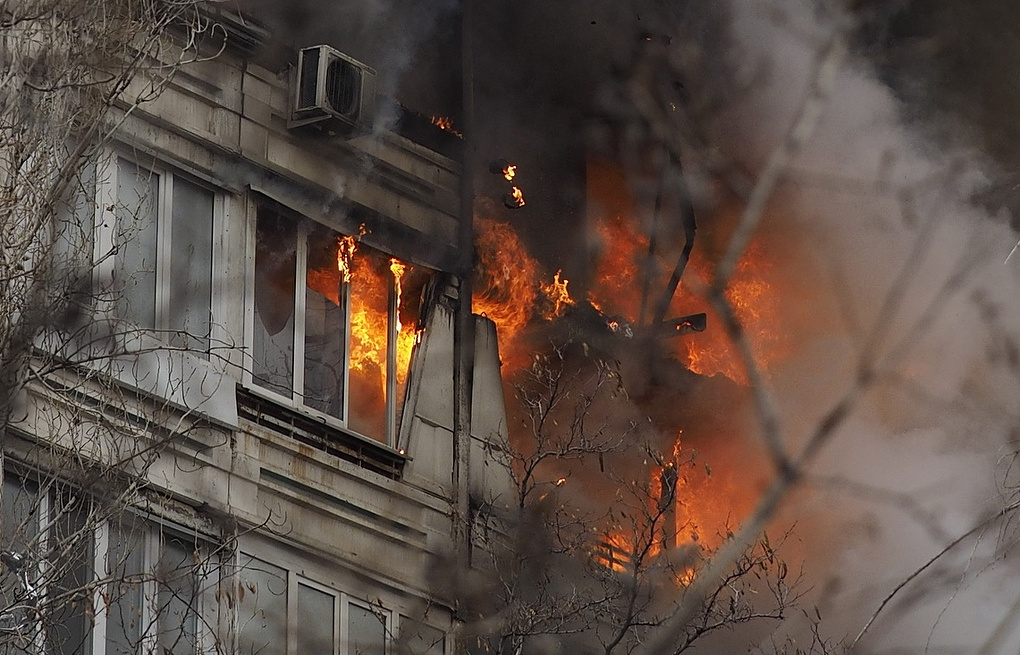fire: (329, 54, 864, 558)
